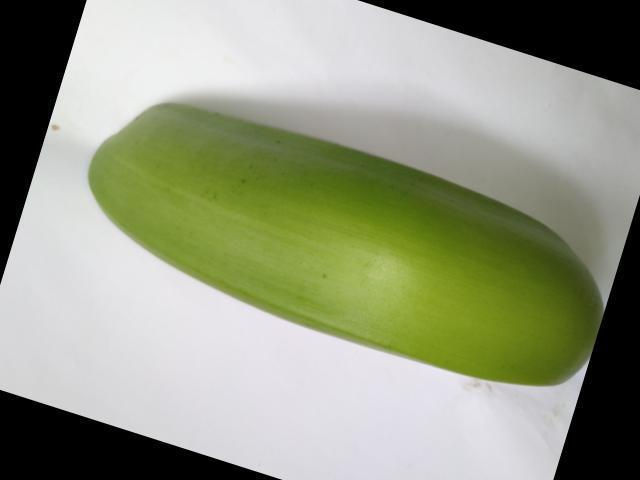freshunripe: (73, 81, 617, 403)
